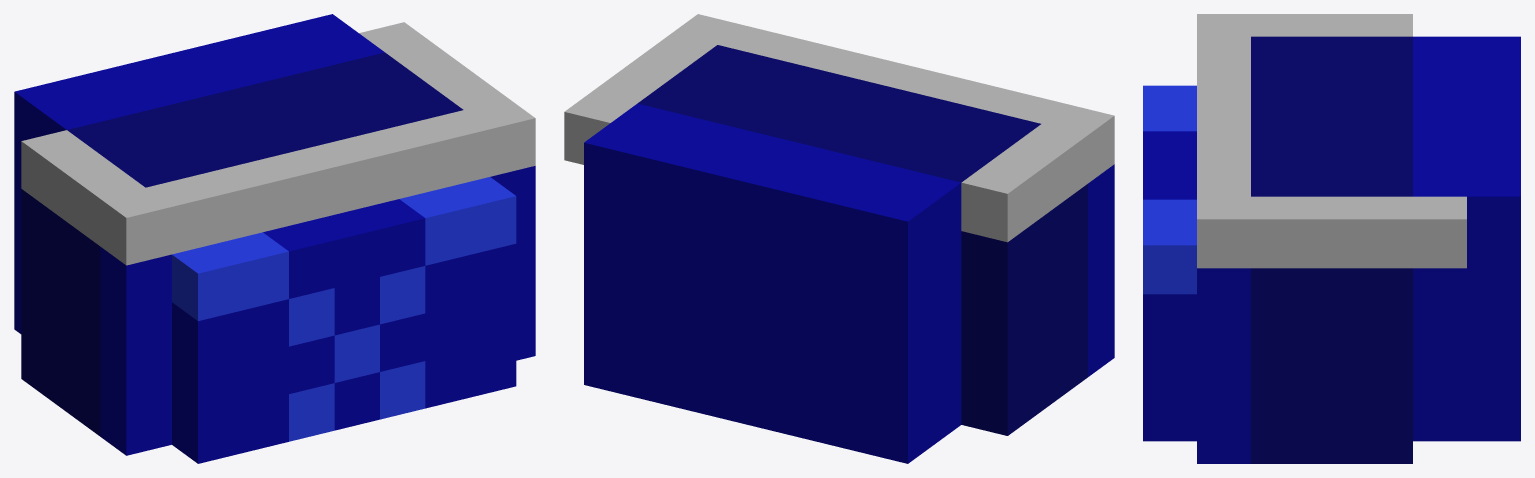
File: AgriasTrunk.fbx
3 renders of one model, left to right at view 1: azimuth 30°, elevation 25°; view 2: azimuth 150°, elevation 25°; view 3: azimuth 270°, elevation 25°, orthographic. The views are drawn at different scales.
Parts seen in each view (by area): view 1: Union_2; view 2: Union_2; view 3: Union_2.
Boxes of the visible parts, x1=… form: Union_2: x1=14, y1=14, x2=535, y2=463; Union_2: x1=564, y1=14, x2=1114, y2=463; Union_2: x1=1143, y1=14, x2=1520, y2=463.
Size of the model in its own units: 9 by 5 by 7.
1 material, 1 textured.
